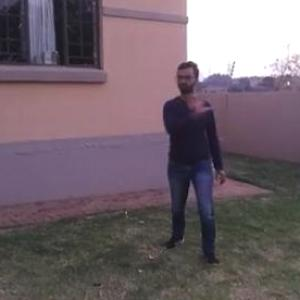follow_hand: (186, 89, 215, 119)
